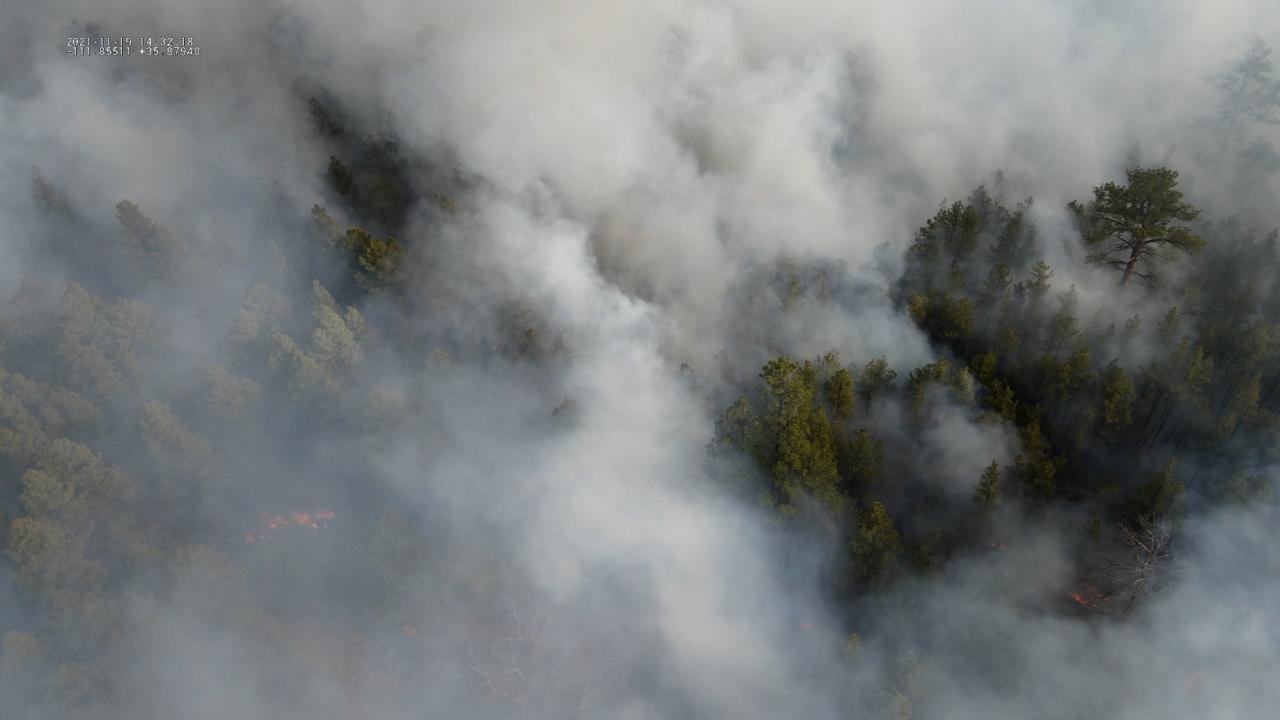fire: (243, 508, 336, 546), (1066, 575, 1113, 608), (991, 540, 1011, 552)
smoke: (0, 0, 1280, 720)
